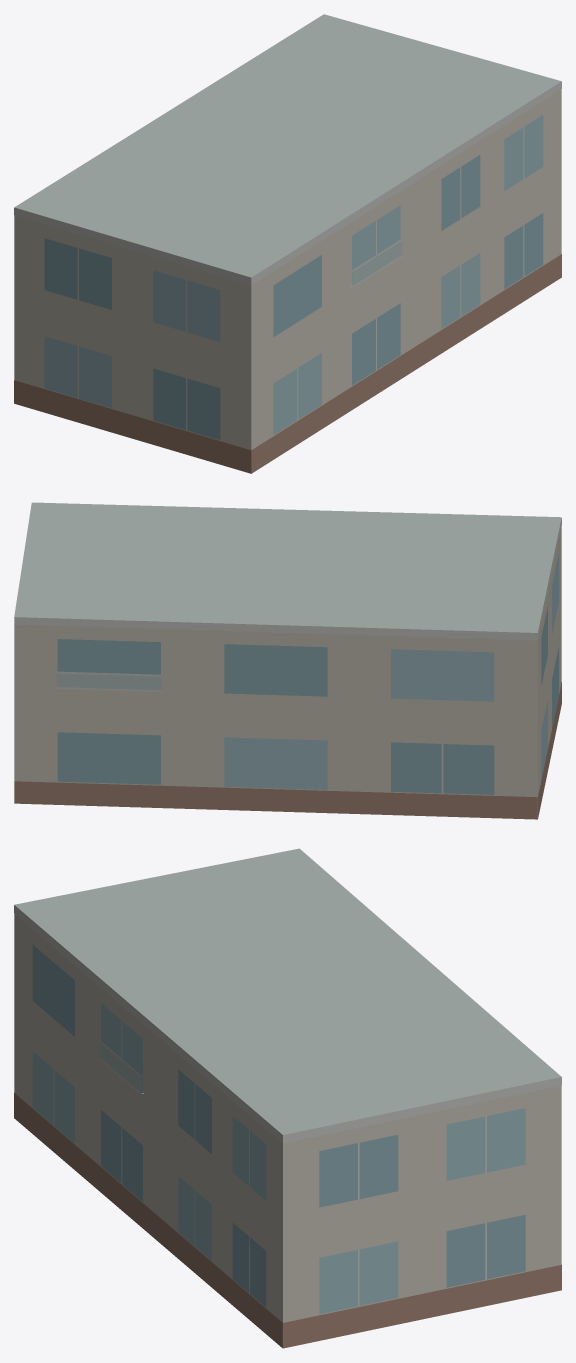
The model's file is survey-upis-32705595.glb.
3 renders of one model, top to bottom at view 1: azimuth 30°, elevation 25°; view 2: azimuth 150°, elevation 25°; view 3: azimuth 270°, elevation 25°, orthographic. The views are drawn at different scales.
Parts seen in each view (by area): view 1: survey-upis-32705595.tmp; view 2: survey-upis-32705595.tmp; view 3: survey-upis-32705595.tmp.
Part boxes in pixels (x1=…): survey-upis-32705595.tmp: x1=14, y1=14, x2=561, y2=473; survey-upis-32705595.tmp: x1=14, y1=502, x2=561, y2=819; survey-upis-32705595.tmp: x1=14, y1=848, x2=561, y2=1348.
Size of the model in its own units: 17.58 by 6.1 by 14.2.
